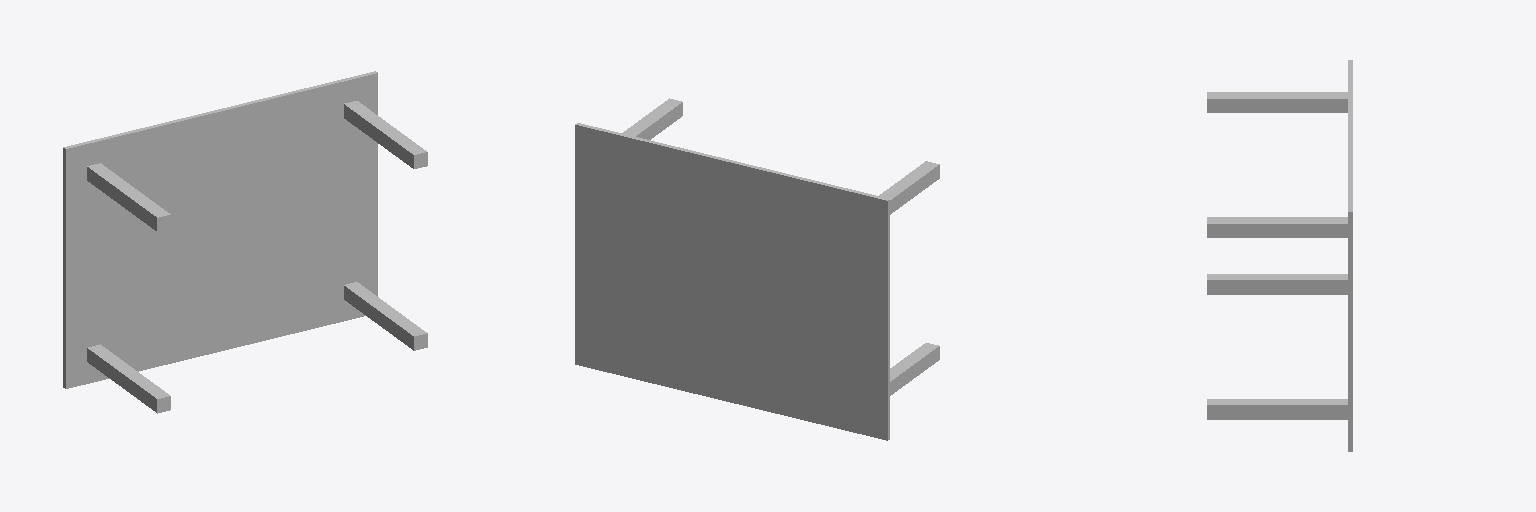
File: random_table93.obj
The picture shows the model from 3 angles: view 1: azimuth 30°, elevation 25°; view 2: azimuth 150°, elevation 25°; view 3: azimuth 270°, elevation 25°; orthographic projection.
Parts seen in each view (by area): view 1: Table_Cube.1530, TableLeg2_Cube.1533, TableLeg1_Cube.1532, TableLeg3_Cube.1534, TableLeg0_Cube.1531; view 2: Table_Cube.1530, TableLeg1_Cube.1532, TableLeg3_Cube.1534, TableLeg0_Cube.1531; view 3: TableLeg0_Cube.1531, TableLeg1_Cube.1532, TableLeg2_Cube.1533, TableLeg3_Cube.1534, Table_Cube.1530.
Boxes of the visible parts, <box> form: Table_Cube.1530: <box>63,71,377,388</box>; TableLeg2_Cube.1533: <box>344,282,427,350</box>; TableLeg1_Cube.1532: <box>87,163,170,231</box>; TableLeg3_Cube.1534: <box>87,344,170,413</box>; TableLeg0_Cube.1531: <box>344,101,427,168</box>; Table_Cube.1530: <box>575,123,889,440</box>; TableLeg1_Cube.1532: <box>879,161,939,214</box>; TableLeg3_Cube.1534: <box>890,343,939,395</box>; TableLeg0_Cube.1531: <box>622,98,682,139</box>; TableLeg0_Cube.1531: <box>1207,217,1347,237</box>; TableLeg1_Cube.1532: <box>1207,92,1347,112</box>; TableLeg2_Cube.1533: <box>1207,399,1347,419</box>; TableLeg3_Cube.1534: <box>1207,274,1347,294</box>; Table_Cube.1530: <box>1348,60,1352,451</box>.
Bounding box in the file's own units: 9.95 × 7.3 × 4.03.